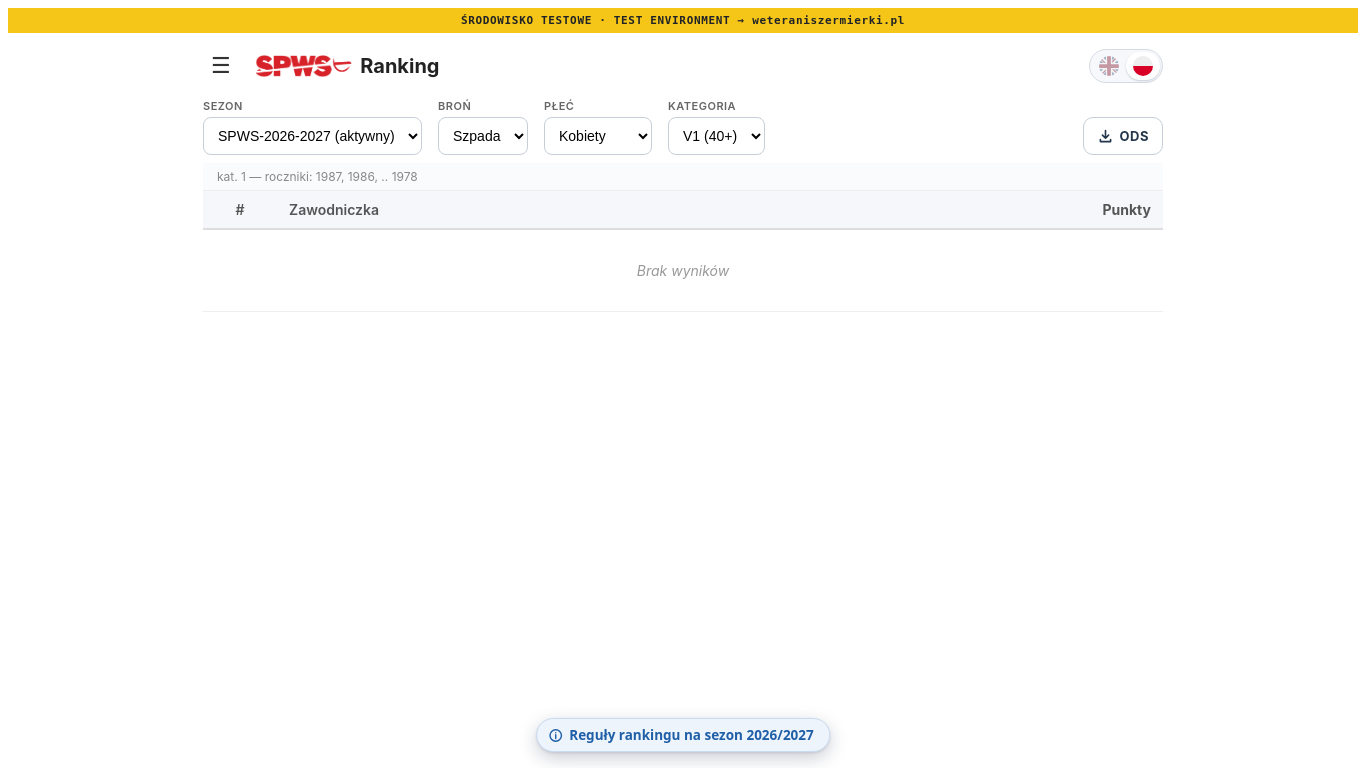
Test: SR.LINK — the chosen season's rules, one click from the list › SR.LINK.03 a season with no stored rules has no link, and the birth years stay
Expected: the text "kat. 1 — roczniki: 1987, 1986, .. 1978" is shown, [203,163,1163,191]
Expected: the button with class "rules-link" is shown, [536,718,830,752]
Step 1. Select "SPWS-2023-2024" in the dropdown with class "season-select" → (312, 136), box [203,117,422,155]
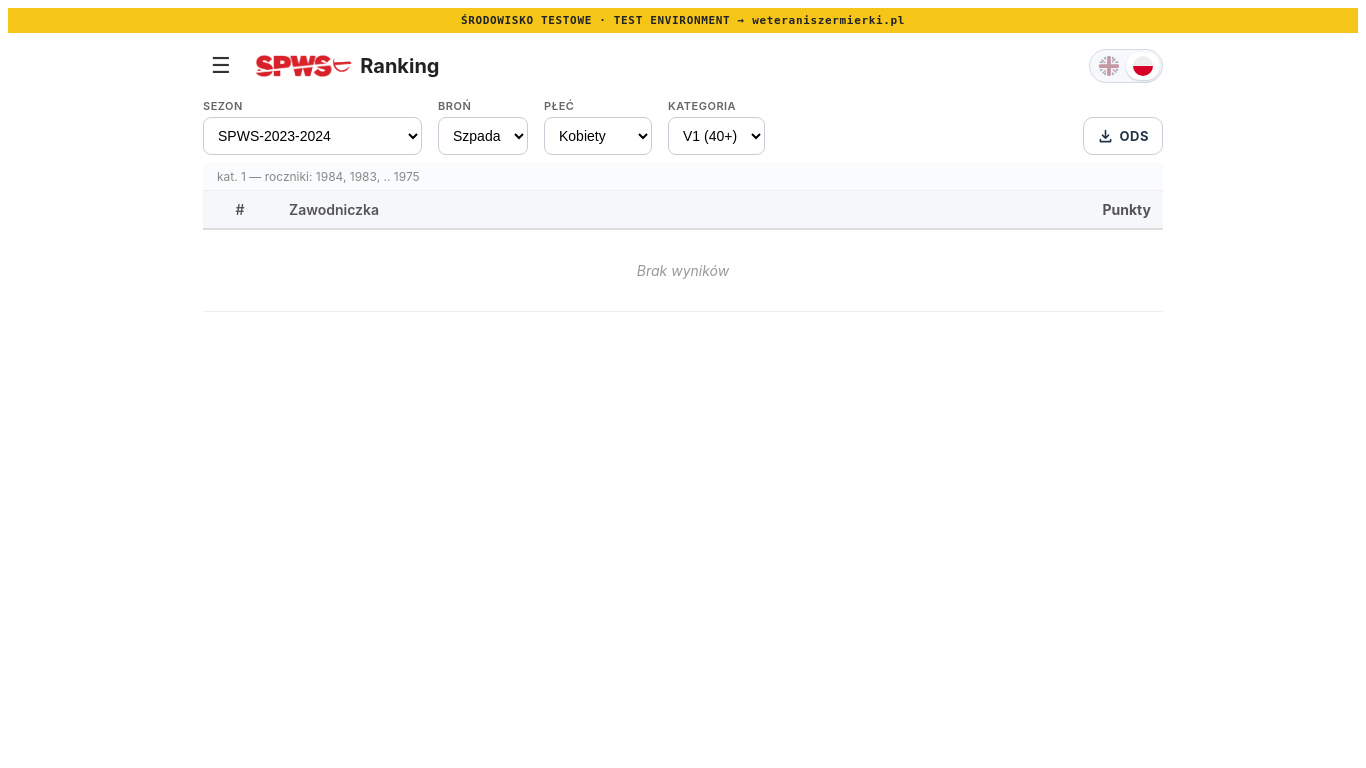
Expected: the text with class "category-subtitle" shows "roczniki", [217,169,420,184]
Expected: the button with class "rules-link" is gone
